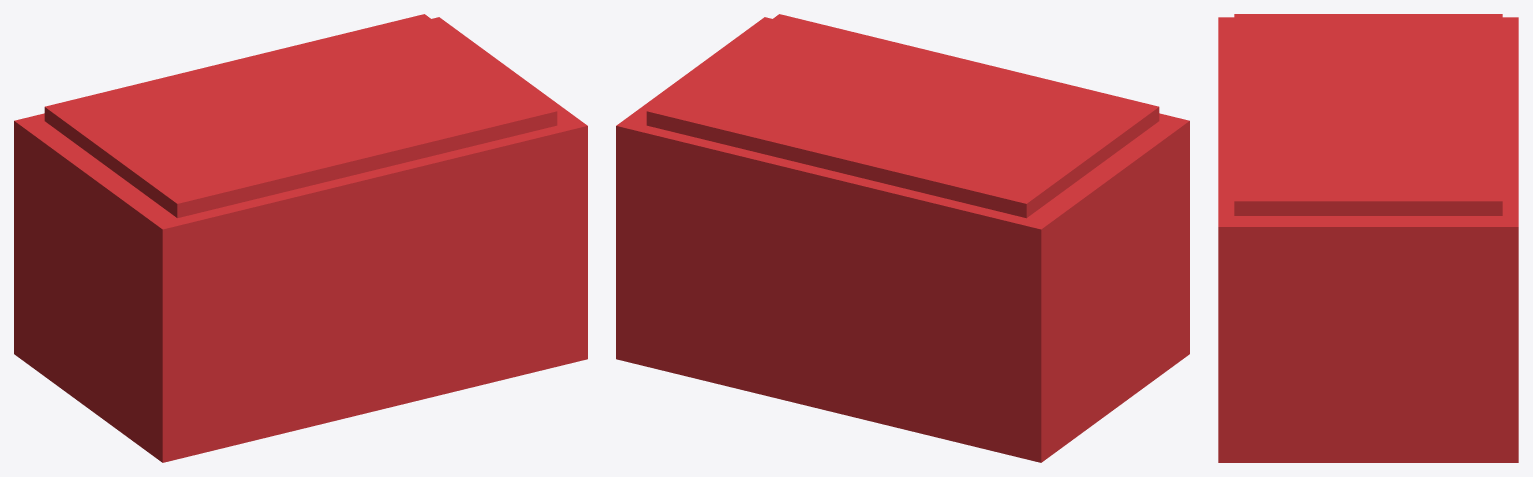
File: garden_gnome3platform.fbx
3 views of the same model, side by side, from view 1: azimuth 30°, elevation 25°; view 2: azimuth 150°, elevation 25°; view 3: azimuth 270°, elevation 25° (orthographic).
Parts seen in each view (by area): view 1: Platform3; view 2: Platform3; view 3: Platform3.
Boxes of the visible parts, x1,y1,x2,y2 form: Platform3: [14, 14, 587, 462]; Platform3: [616, 14, 1189, 462]; Platform3: [1218, 14, 1518, 462].
Bounding box in the file's own units: 330 × 184 × 200.
